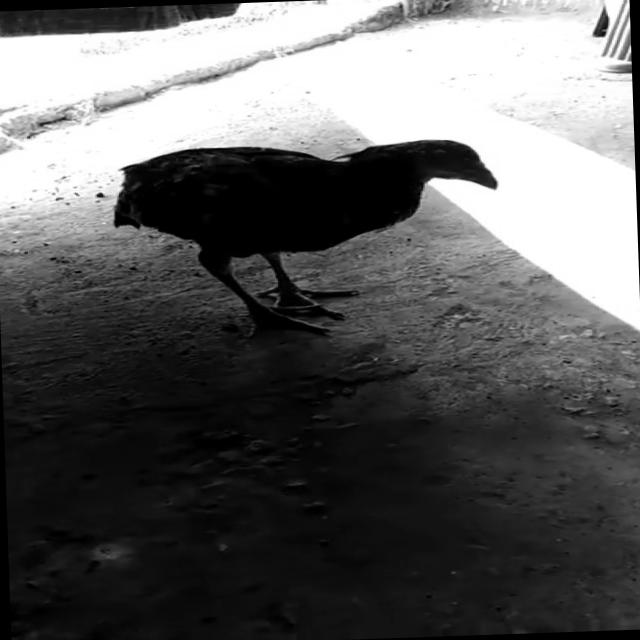walking: (107, 119, 540, 349)
